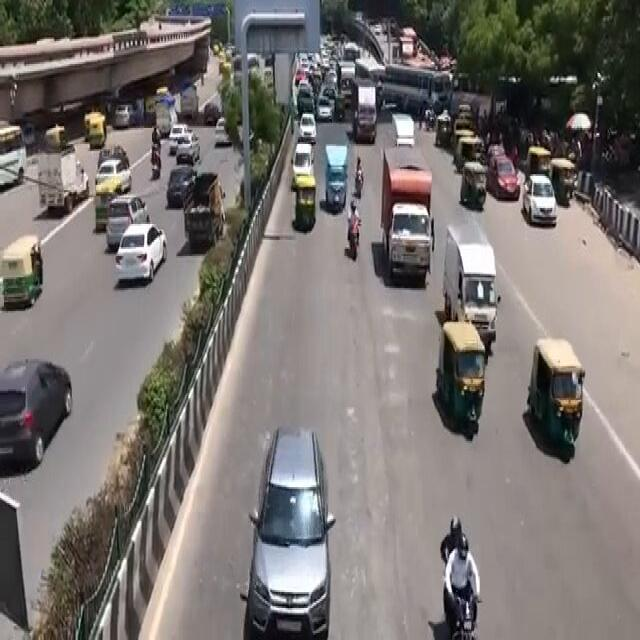three_wheeler: (530, 332, 588, 464)
